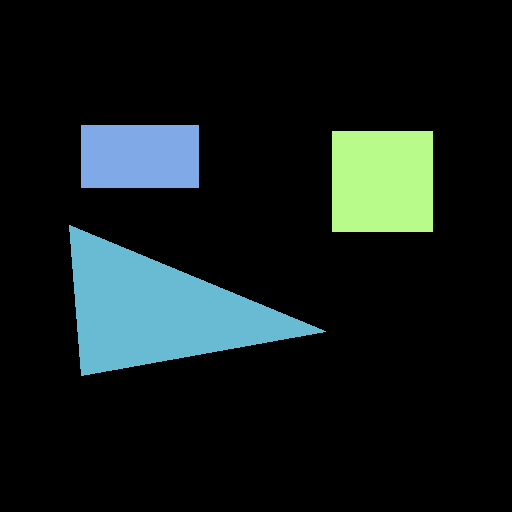rectangle: (81, 125, 198, 187)
square: (332, 131, 432, 231)
triangle: (69, 225, 325, 375)
